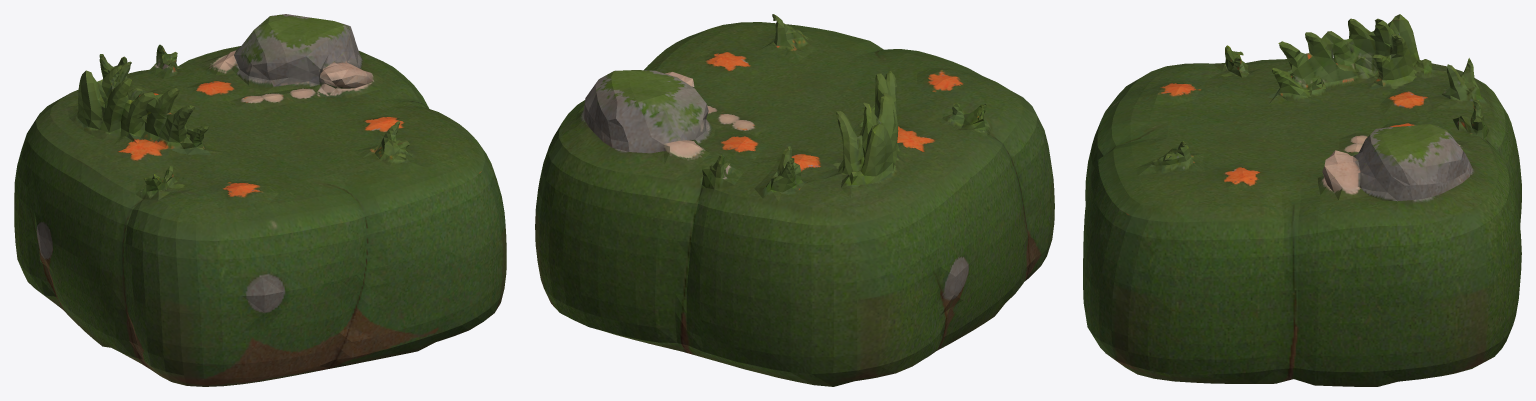
The model's file is Stage_05_Ground_DeepForest_002.fbx.
The picture shows the model from 3 angles, left to right: view 1: azimuth 30°, elevation 25°; view 2: azimuth 150°, elevation 25°; view 3: azimuth 270°, elevation 25°; orthographic projection. The views are drawn at different scales.
Visible parts, largest first — view 1: Stage_05_Ground_DeepForest_002; view 2: Stage_05_Ground_DeepForest_002; view 3: Stage_05_Ground_DeepForest_002.
Part boxes in pixels (x1,y1,x2,y2): Stage_05_Ground_DeepForest_002: (14, 14, 506, 386); Stage_05_Ground_DeepForest_002: (535, 14, 1054, 386); Stage_05_Ground_DeepForest_002: (1083, 14, 1521, 386).
Size of the model in its own units: 99.43 by 57.41 by 99.28.
